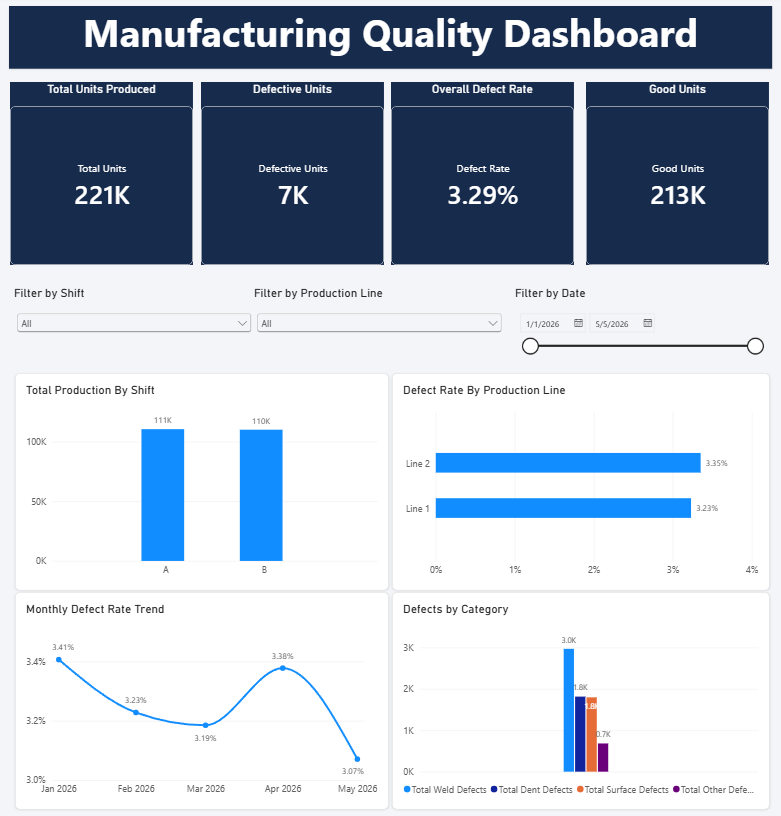

What the dashboard file says about the page in this screenshot:
{"tool":"powerbi","page":{"name":"Page 1","canvas":[1200,1255],"ordinal":0},"visuals":[{"type":"cardVisual","title":"Total Units Produced","fields":{"Data":["Production Data.Total Units"]},"box":[16.7,130.9,280,280],"z":0},{"type":"cardVisual","title":"Defective Units","fields":{"Data":["Production Data.Defective Units"]},"box":[308.7,130.9,280,280],"z":1000},{"type":"cardVisual","title":"Overall Defect Rate","fields":{"Data":["Production Data.Defect Rate"]},"box":[600.5,130.9,280,280],"z":2000},{"type":"cardVisual","title":"Good Units","fields":{"Data":["Production Data.Good Units"]},"box":[898.1,130.9,280,280],"z":3000},{"type":"clusteredColumnChart","title":"Total Production By Shift","fields":{"Category":["Production Data.Shift"],"Y":["Production Data.Total Units"]},"box":[24.9,576.6,571.9,332.6],"z":4000},{"type":"clusteredBarChart","title":"Defect Rate By Production Line","fields":{"Category":["Production Data.Production_Line"],"Y":["Production Data.Defect Rate"]},"box":[600.9,576.6,577.8,332.6],"z":5000},{"type":"lineChart","title":"Monthly Defect Rate Trend","fields":{"Category":["Production Data.Month Start.Variation.Date Hierarchy.Year","Production Data.Month Start.Variation.Date Hierarchy.Month"],"Y":["Production Data.Defect Rate"]},"box":[24.9,912.6,572,333],"z":6000},{"type":"clusteredColumnChart","title":"Defects by Category","fields":{"Y":["Production Data.Total Weld Defects","Production Data.Total Dent Defects","Production Data.Total Surface Defects","Production Data.Total Other Defects"]},"box":[600.9,912.6,578,333],"z":7000},{"type":"slicer","title":"Filter by Shift","fields":{"Values":["Production Data.Shift"]},"box":[22.2,443.5,368,112],"z":8000},{"type":"slicer","title":"Filter by Production Line","fields":{"Values":["Production Data.Production_Line"]},"box":[390.2,443.5,384,112],"z":9000},{"type":"slicer","title":"Filter by Date","fields":{"Values":["Production Data.Date"]},"box":[790.2,443.5,384,112],"z":10000},{"type":"textbox","box":[1180,416,578,333],"z":11000},{"type":"textbox","box":[16,16,1168,96],"z":12000}]}

Visuals, with their boxes in screenshot pixels (x1, y1, x2, y2), scaled from the page's 1200x1255 canvas onto the 781x816 screenshot:
"Total Units Produced" cardVisual: {"x1": 11, "y1": 85, "x2": 193, "y2": 267}
"Defective Units" cardVisual: {"x1": 201, "y1": 85, "x2": 383, "y2": 267}
"Overall Defect Rate" cardVisual: {"x1": 391, "y1": 85, "x2": 573, "y2": 267}
"Good Units" cardVisual: {"x1": 585, "y1": 85, "x2": 767, "y2": 267}
"Total Production By Shift" clusteredColumnChart: {"x1": 16, "y1": 375, "x2": 388, "y2": 591}
"Defect Rate By Production Line" clusteredBarChart: {"x1": 391, "y1": 375, "x2": 767, "y2": 591}
"Monthly Defect Rate Trend" lineChart: {"x1": 16, "y1": 593, "x2": 388, "y2": 810}
"Defects by Category" clusteredColumnChart: {"x1": 391, "y1": 593, "x2": 767, "y2": 810}
"Filter by Shift" slicer: {"x1": 14, "y1": 288, "x2": 254, "y2": 361}
"Filter by Production Line" slicer: {"x1": 254, "y1": 288, "x2": 504, "y2": 361}
"Filter by Date" slicer: {"x1": 514, "y1": 288, "x2": 764, "y2": 361}
textbox: {"x1": 768, "y1": 270, "x2": 780, "y2": 487}
textbox: {"x1": 10, "y1": 10, "x2": 771, "y2": 73}
